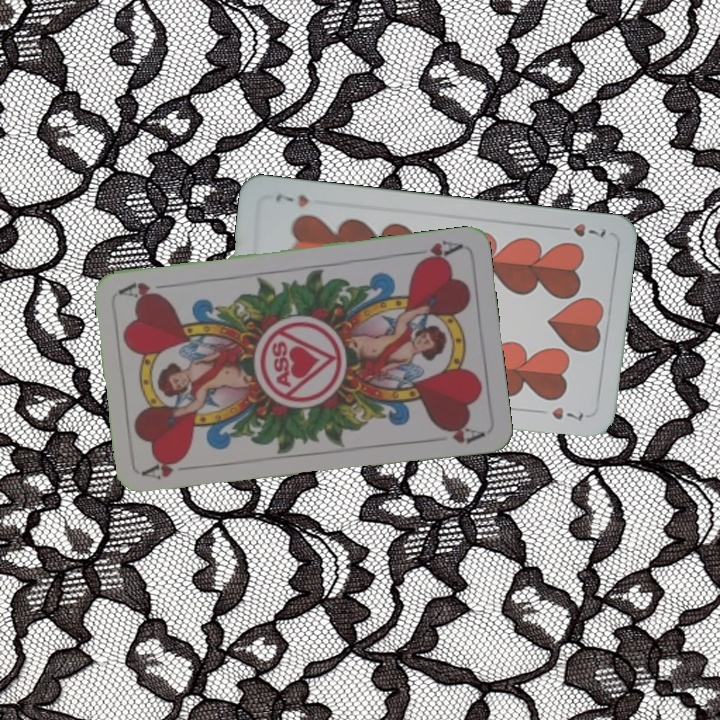H7: (552, 219, 608, 240)
HA: (405, 236, 464, 266), (139, 454, 199, 483)
